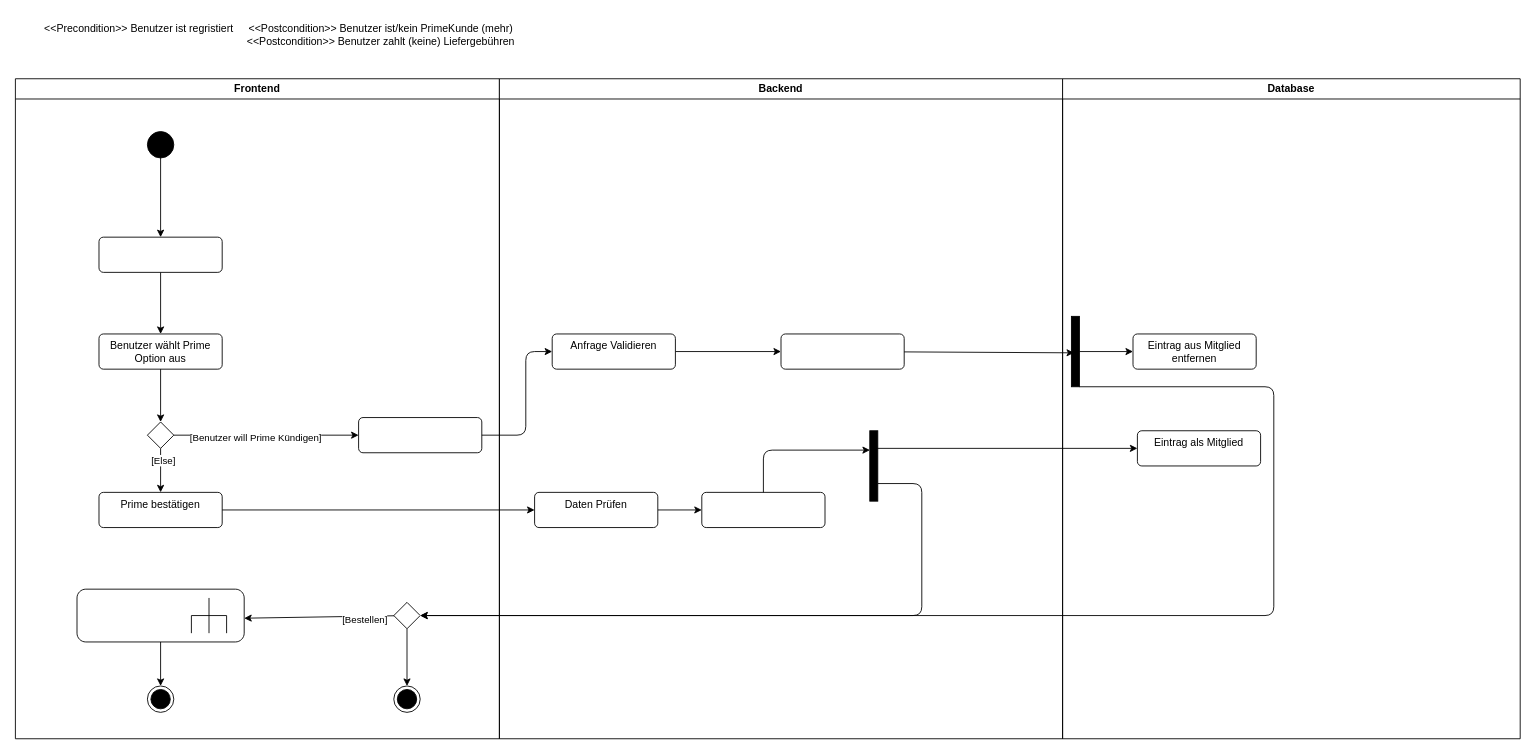
Image size: 1536x754. Some labels were removed from this diagram. Here are the shapes that lost their labels. From the top down, the centre of each, then its label:
pixel 160 254: Einloggen
pixel 842 351: Kündigung bestätigen
pixel 420 435: Kündigen auswählen
pixel 763 509: Monatliche gebühr bezahlen
pixel 160 615: Bestellprozess folgen
